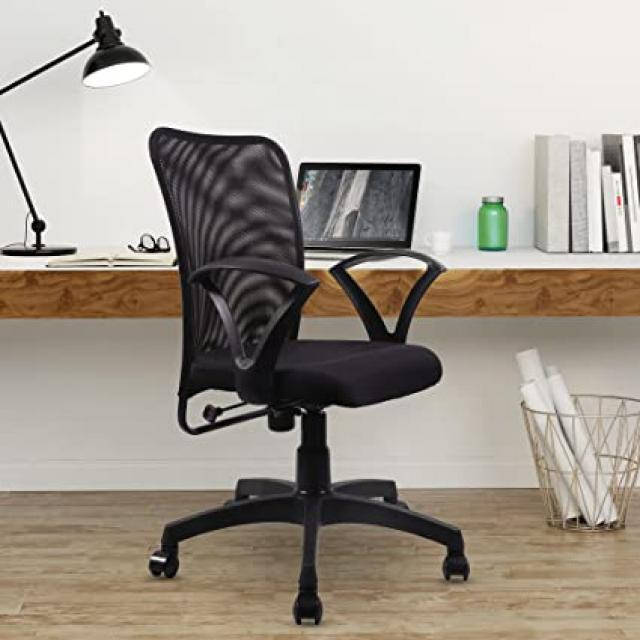chair: (132, 89, 482, 640)
